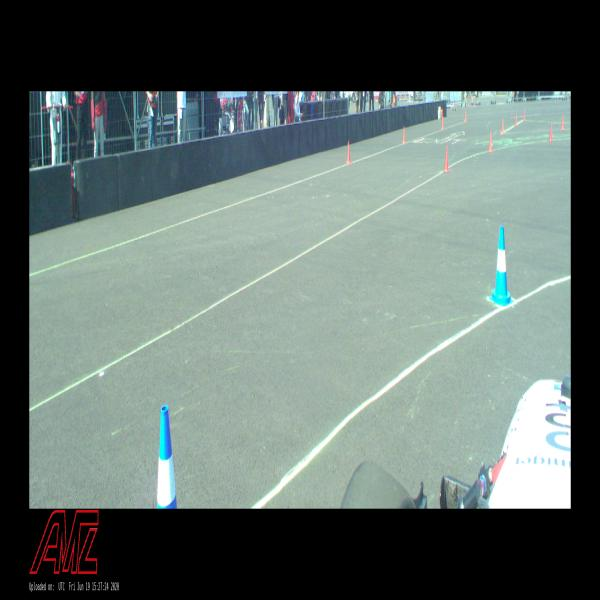blue_cone: (151, 406, 182, 508), (489, 226, 514, 306)
